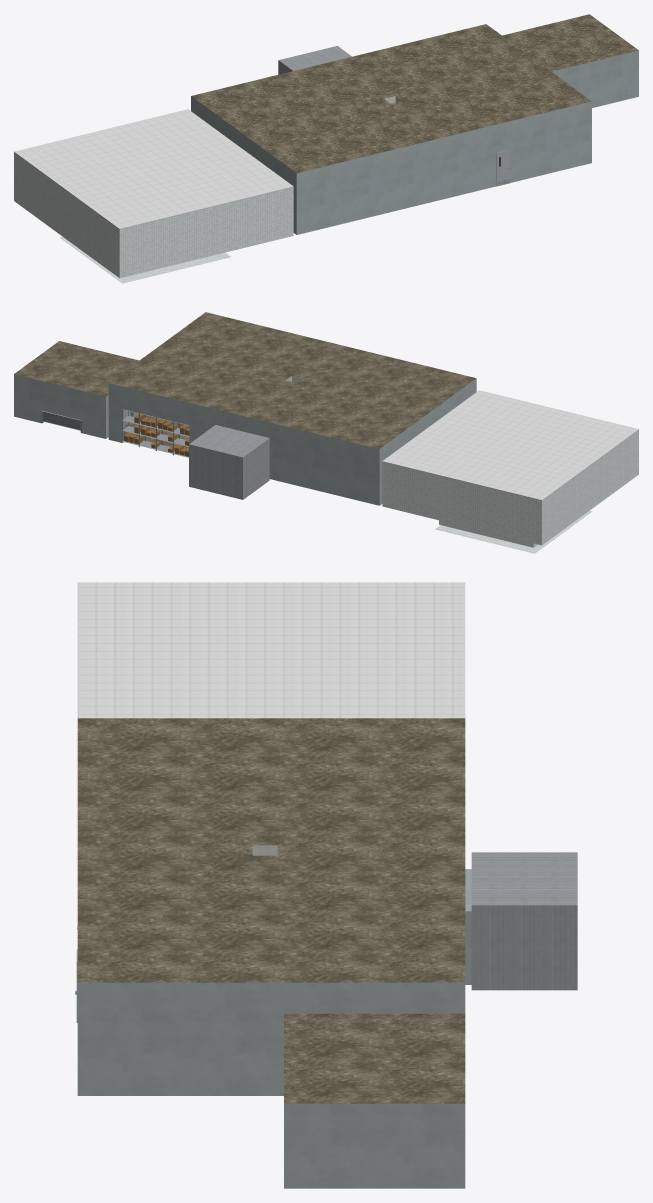
Rendered from service_entry.glb.
The picture shows the model from 3 angles, top to bottom: view 1: azimuth 30°, elevation 25°; view 2: azimuth 150°, elevation 25°; view 3: azimuth 270°, elevation 25°; orthographic projection. The views are drawn at different scales.
Parts seen in each view (by area): view 1: Ceiling_Concrete, Wall_Service, Ceiling_Tile, Wall_Tile, Wall_Steel, DoorLeaf_checkpoint_1; view 2: Ceiling_Concrete, Wall_Service, Ceiling_Tile, Wall_Tile, Wall_Steel, Cardboard, Paint_Grey, Steel, Floor_Concrete; view 3: Ceiling_Concrete, Ceiling_Tile, Wall_Service, Wall_Steel.
Boxes of the visible parts, x1,y1,x2,y2 form: Ceiling_Concrete: (191, 14, 638, 173); Wall_Service: (191, 50, 638, 234); Ceiling_Tile: (14, 109, 293, 228); Wall_Tile: (14, 152, 293, 283); Wall_Steel: (278, 46, 351, 74); DoorLeaf_checkpoint_1: (496, 149, 510, 186); Ceiling_Concrete: (14, 312, 475, 448); Wall_Service: (14, 374, 476, 505); Ceiling_Tile: (382, 390, 638, 499); Wall_Tile: (382, 429, 638, 553); Wall_Steel: (189, 425, 269, 499); Cardboard: (124, 414, 189, 456); Paint_Grey: (41, 409, 189, 455); Steel: (122, 409, 189, 457); Floor_Concrete: (41, 411, 189, 447); Ceiling_Concrete: (77, 718, 465, 1103); Ceiling_Tile: (77, 582, 465, 718); Wall_Service: (77, 869, 471, 1188); Wall_Steel: (471, 852, 577, 990).
Bounding box in the file's own units: 39 × 5.9 × 16.07.
Materials: 35 (15 with a texture image).
